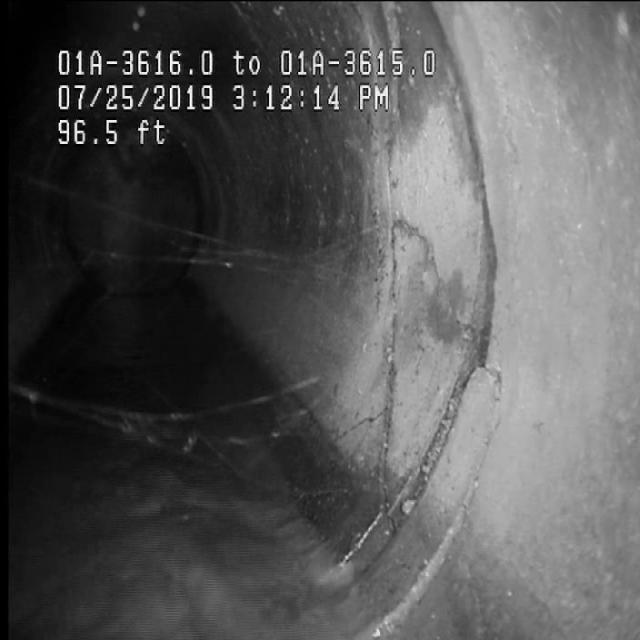Fracture: (344, 180, 494, 540)
